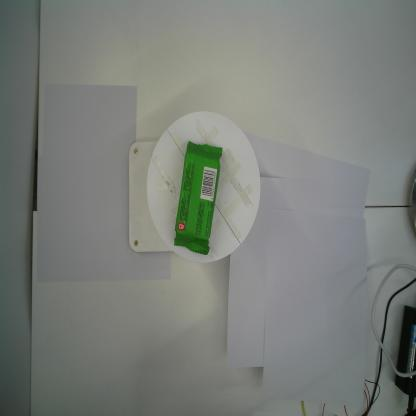Dessert: (173, 138, 224, 257)
